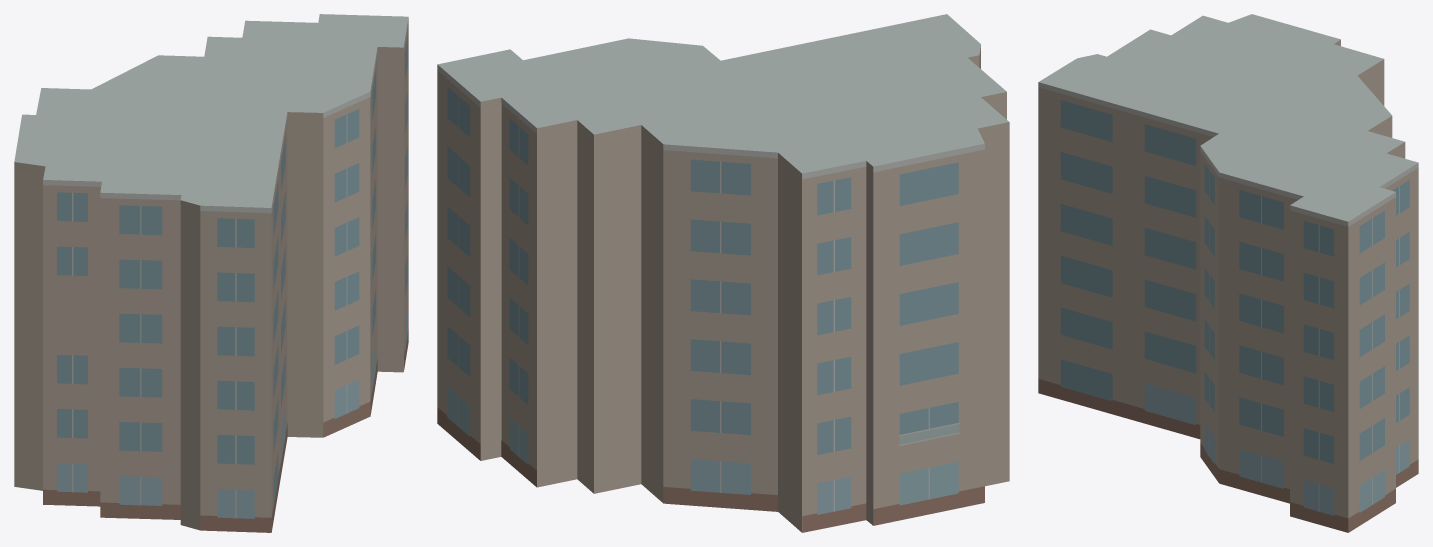
Rendered from survey-upis-32756736.glb.
The picture shows the model from 3 angles, left to right: view 1: azimuth 30°, elevation 25°; view 2: azimuth 150°, elevation 25°; view 3: azimuth 270°, elevation 25°; orthographic projection. The views are drawn at different scales.
Visible parts, largest first — view 1: survey-upis-32756736.tmp; view 2: survey-upis-32756736.tmp; view 3: survey-upis-32756736.tmp.
Boxes of the visible parts, box(x1,y1,x2,y2) form: survey-upis-32756736.tmp: box(14, 14, 408, 532); survey-upis-32756736.tmp: box(437, 14, 1009, 532); survey-upis-32756736.tmp: box(1038, 14, 1418, 532).
Bounding box in the file's own units: 21.64 × 15.1 × 16.74.
